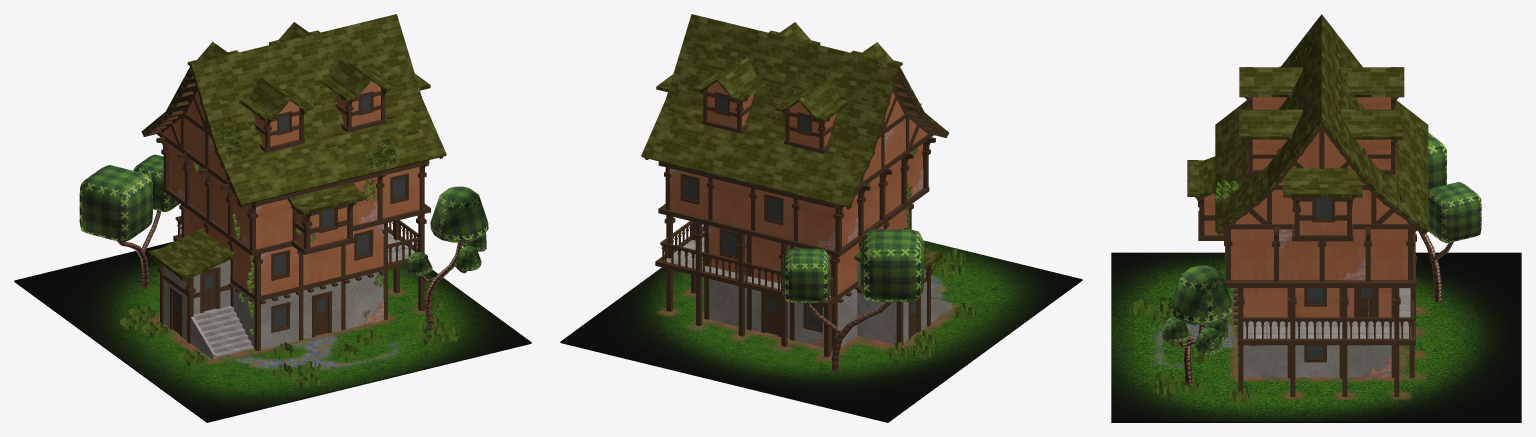
The model's file is house.obj.
3 views of the same model, side by side, from view 1: azimuth 30°, elevation 25°; view 2: azimuth 150°, elevation 25°; view 3: azimuth 270°, elevation 25° (orthographic). The views are drawn at different scales.
Parts seen in each view (by area): view 1: obj4, obj9, obj3, obj2, obj5, obj12, obj10, obj11, obj1, obj6, obj7; view 2: obj9, obj4, obj3, obj2, obj12, obj5, obj10, obj6, obj7, obj1; view 3: obj9, obj4, obj2, obj3, obj11, obj12, obj5, obj1, obj10, obj6, obj7.
Boxes of the visible parts, x1,y1,x2,y2 form: obj4: (141,14,446,279); obj9: (14,241,531,422); obj3: (143,21,442,350); obj2: (163,81,419,295); obj5: (163,259,383,359); obj12: (79,154,179,288); obj10: (120,116,459,387); obj11: (407,186,488,332); obj1: (193,232,415,357); obj6: (174,94,405,328); obj7: (177,135,383,324); obj9: (560,240,1082,422); obj4: (641,14,948,269); obj3: (644,21,947,357); obj2: (670,82,927,295); obj12: (782,229,924,371); obj5: (709,261,951,347); obj10: (866,103,977,361); obj6: (684,95,916,327); obj7: (669,127,923,348); obj1: (664,231,830,300); obj9: (1111,252,1521,422); obj4: (1187,14,1428,233); obj2: (1204,97,1408,317); obj3: (1195,24,1425,396); obj11: (1162,265,1232,389); obj12: (1418,132,1481,301); obj5: (1243,299,1391,377); obj1: (1243,288,1410,338); obj10: (1129,66,1280,403); obj6: (1307,197,1372,357); obj7: (1279,229,1391,377).
Bounding box in the file's own units: 19.56 × 15.51 × 20.11.
